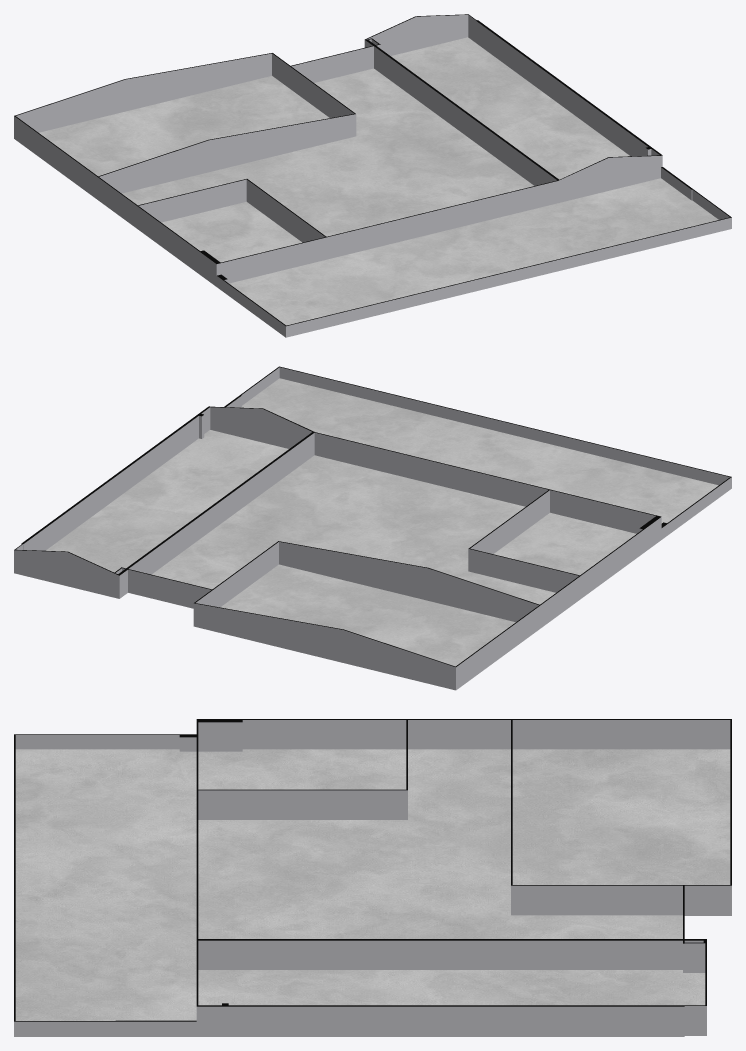
3 views of the same model, one above another, from view 1: azimuth 30°, elevation 25°; view 2: azimuth 150°, elevation 25°; view 3: azimuth 270°, elevation 25° (orthographic). The views are drawn at different scales.
Parts seen in each view (by area): view 1: H2_옥상_바닥001, H2_옥상_벽001; view 2: H2_옥상_바닥001, H2_옥상_벽001; view 3: H2_옥상_바닥001, H2_옥상_벽001.
Boxes of the visible parts, box(x1,y1,x2,y2) form: H2_옥상_바닥001: box(39, 37, 718, 325); H2_옥상_벽001: box(14, 14, 731, 337); H2_옥상_바닥001: box(46, 378, 718, 666); H2_옥상_벽001: box(14, 366, 731, 690); H2_옥상_바닥001: box(15, 749, 730, 1020); H2_옥상_벽001: box(14, 719, 731, 1036).
Size of the model in its own units: 61.15 by 4.42 by 64.55.
3 materials, 1 textured.
